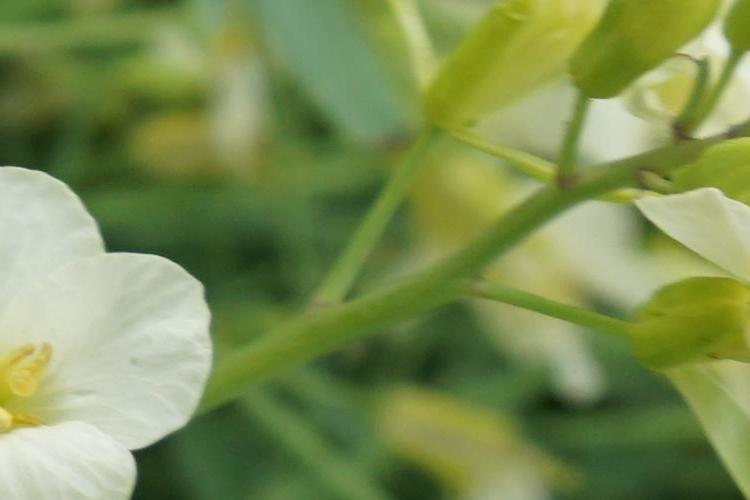white: (2, 152, 190, 496)
